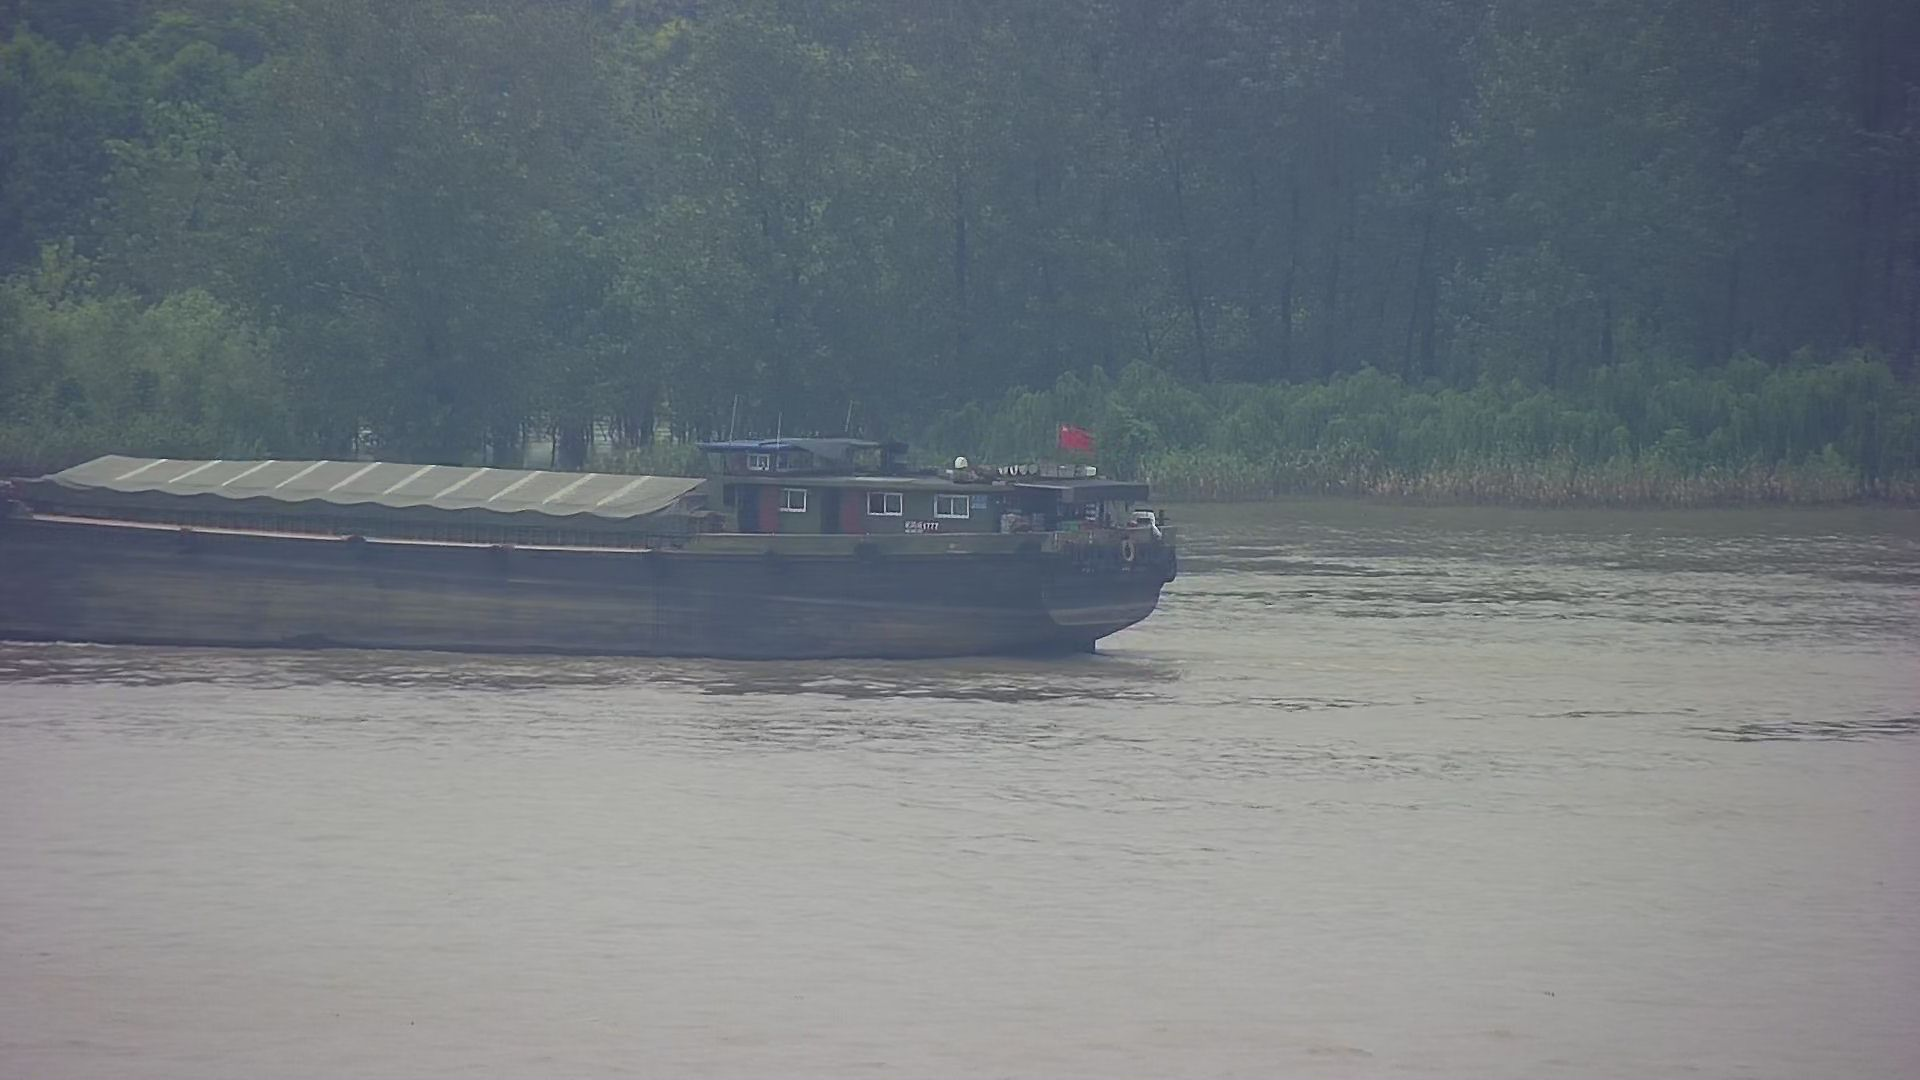ship: (1, 390, 1226, 673)
